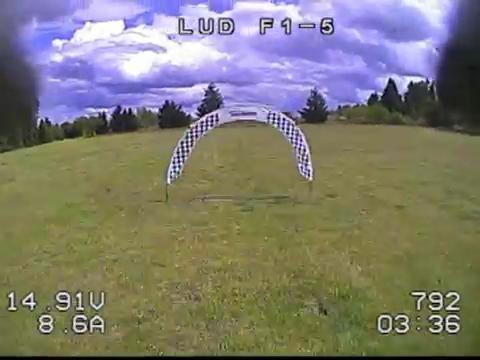gate: (167, 107, 317, 184)
